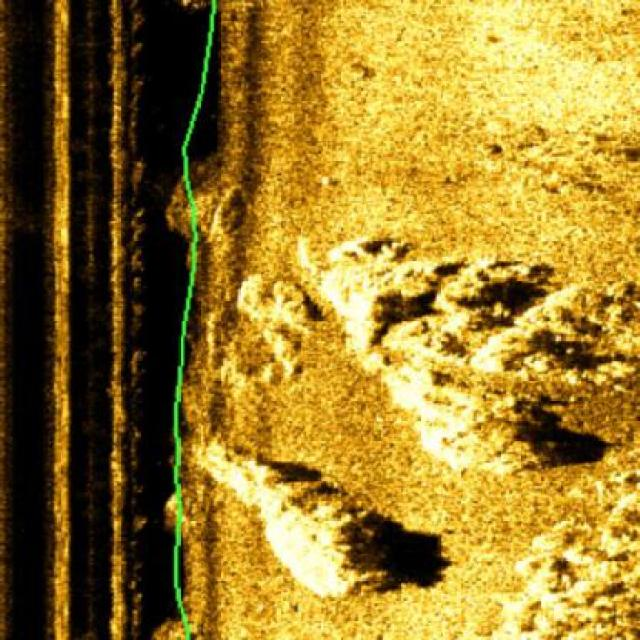bedrock group: (201, 221, 639, 639)
